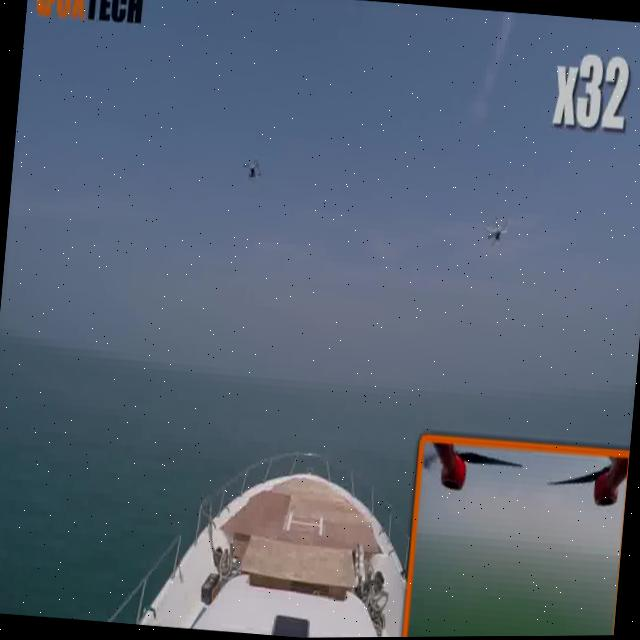drone: (228, 146, 277, 203), (479, 209, 518, 262)
